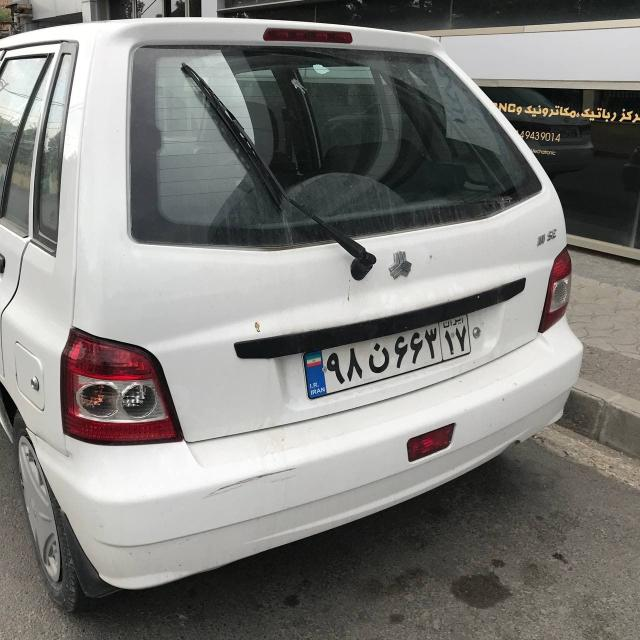Plates: (296, 305, 477, 399)
